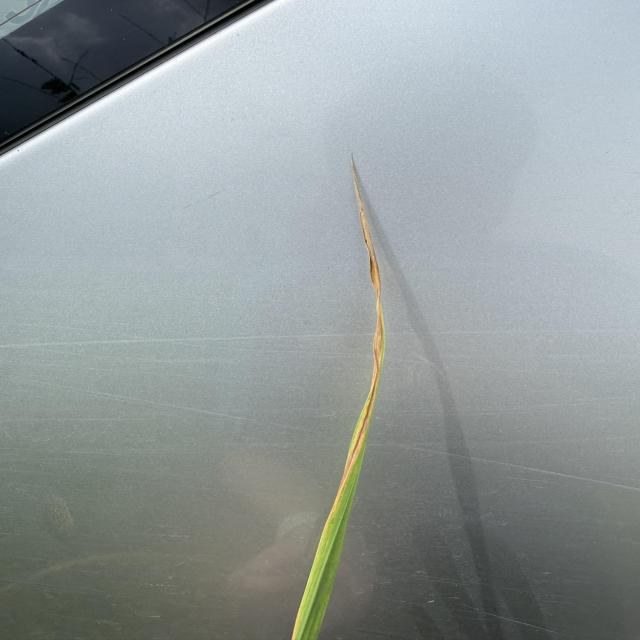Chay bia la: (325, 157, 384, 518)
